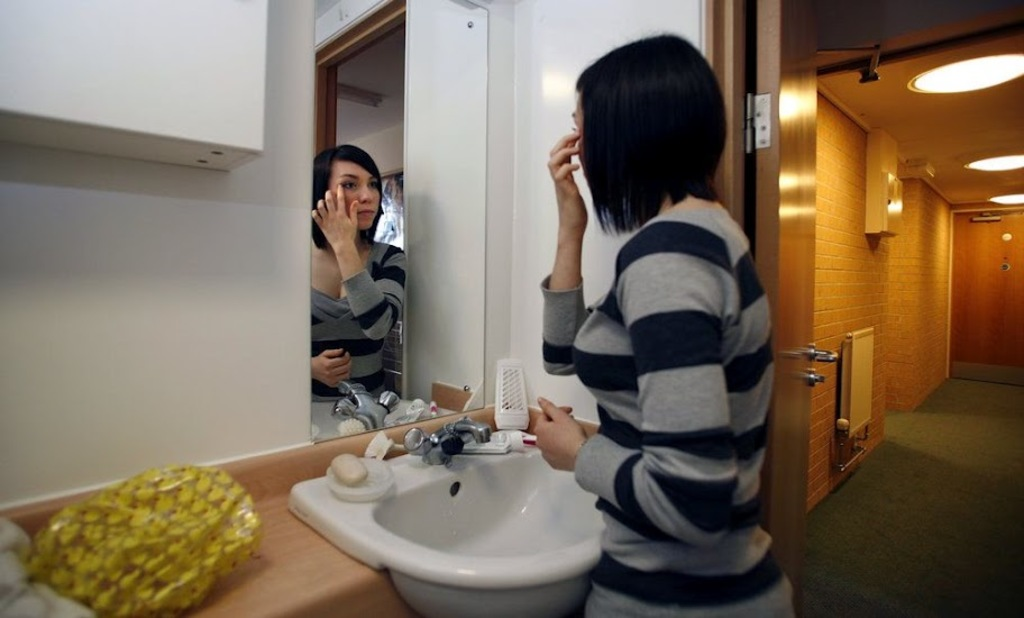tap: (400, 412, 488, 465)
